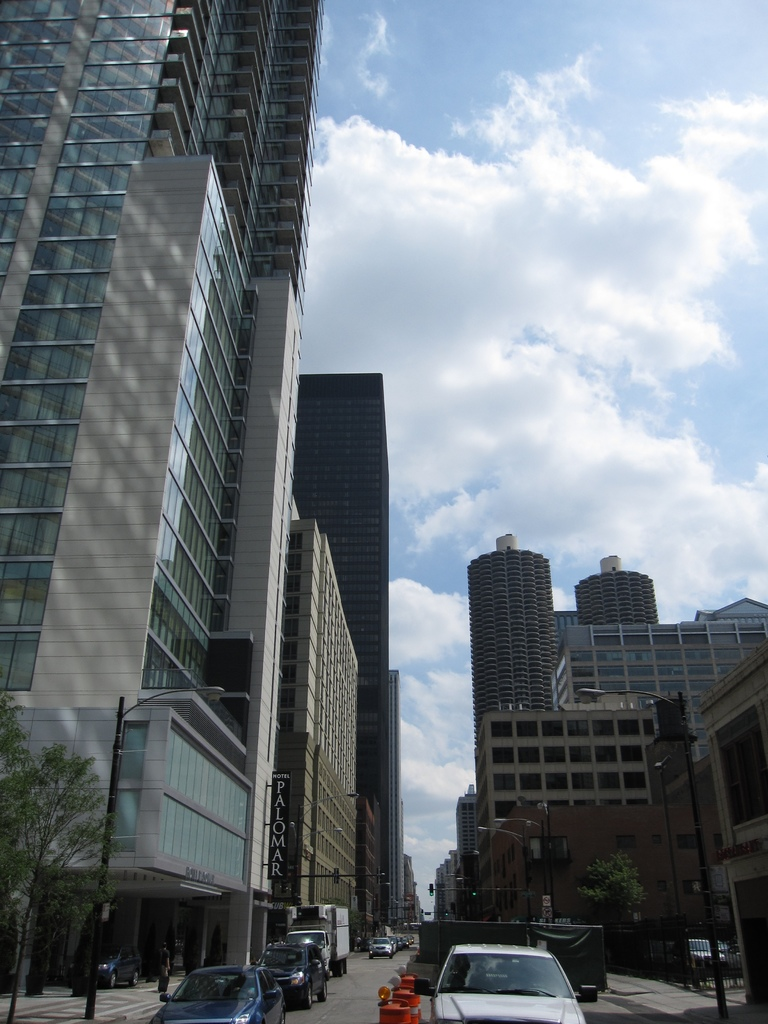Car: (409, 942, 596, 1023), (150, 966, 286, 1022), (255, 938, 323, 1005), (680, 935, 730, 980), (369, 935, 391, 954)
